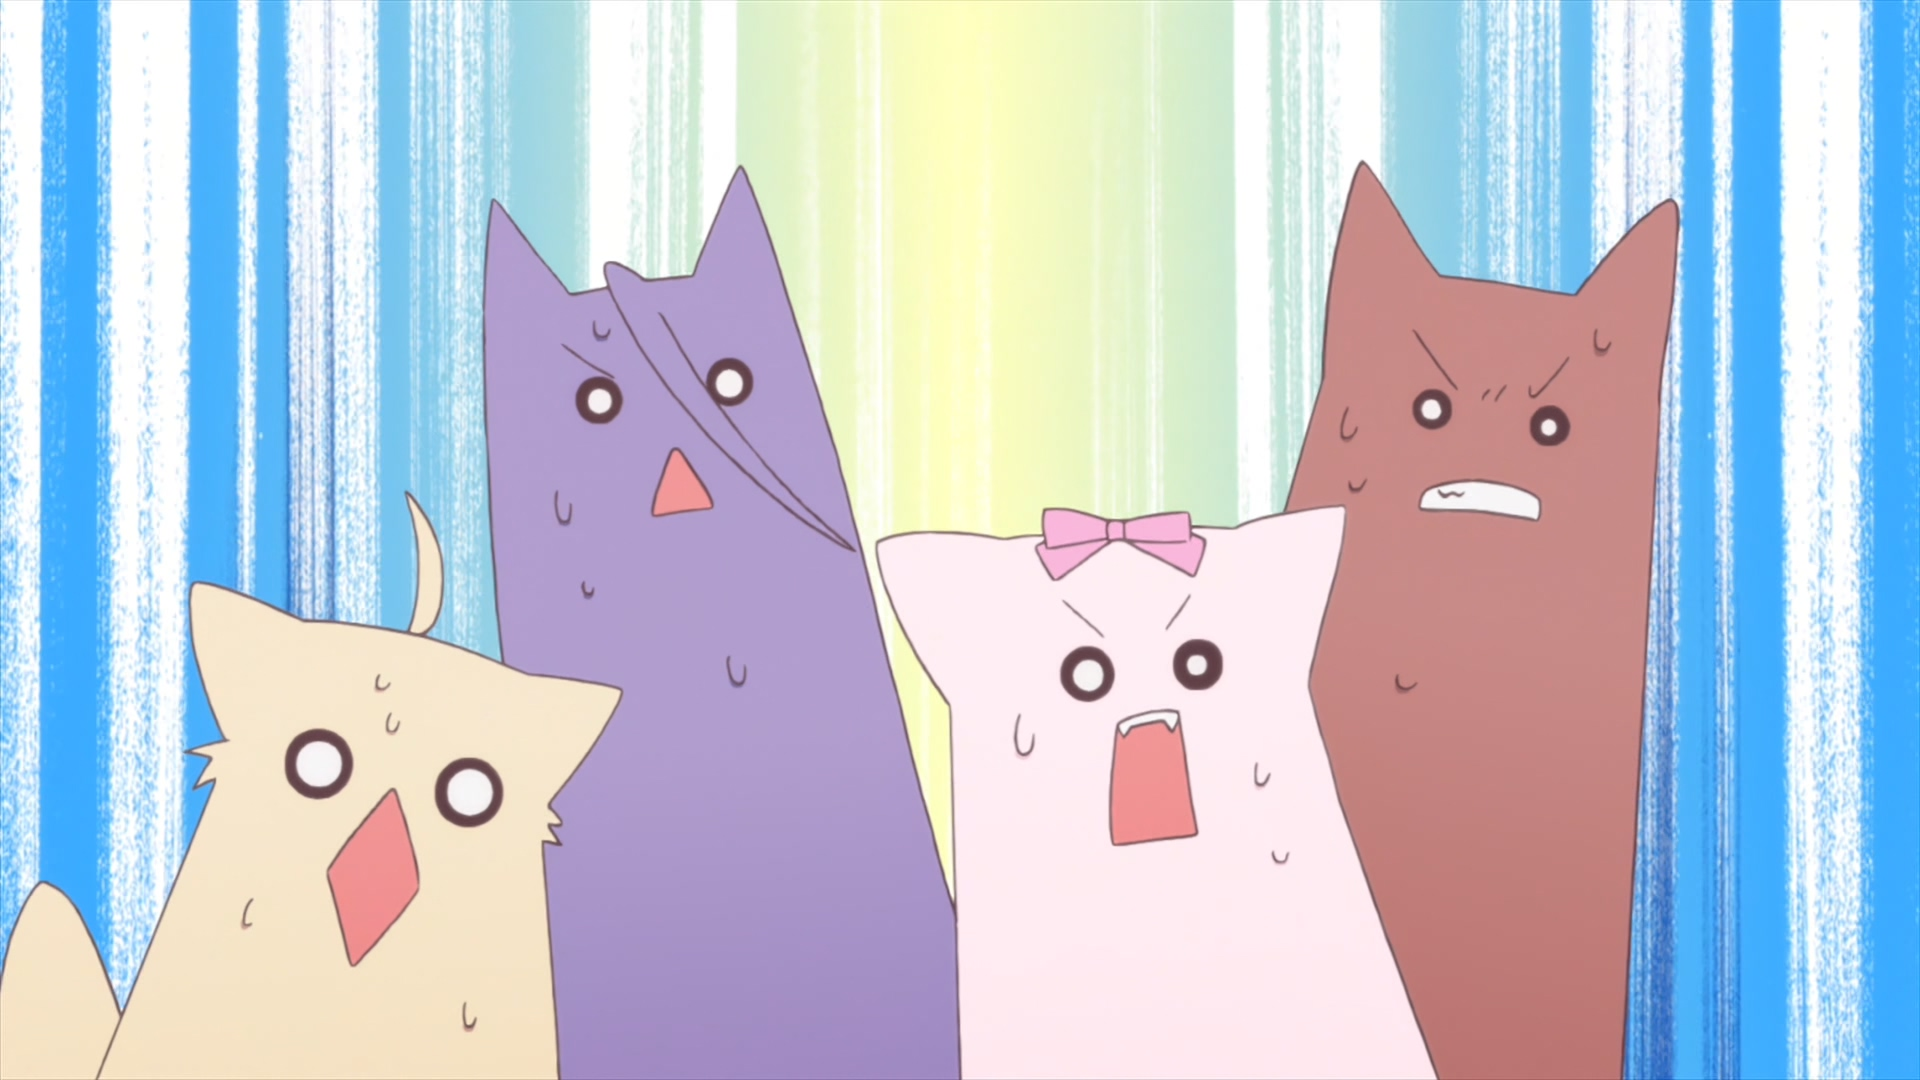枣: (1283, 164, 1677, 1080)
柚: (1, 495, 622, 1080)
皋: (483, 164, 963, 1080)
莲: (874, 506, 1433, 1080)
